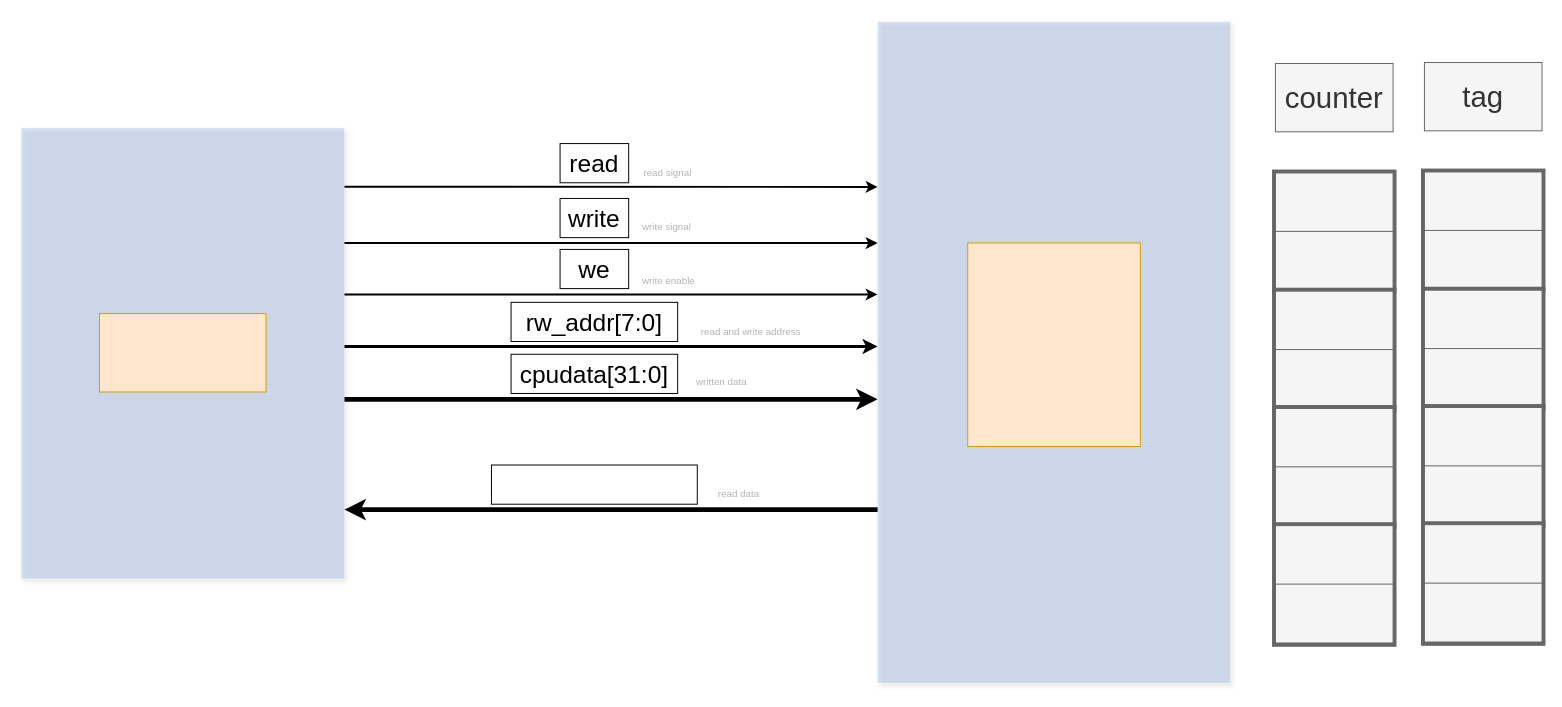
Some shapes in this 1562 by 707 pixel diagram are drawn without their labels. The shapes that lost their labels are listed below. From the top down, each one's centre as x and y in pixels, then its label:
[182,352]: CPU
[1053,344]: cache control
[593,484]: datatocpu[31:0]
